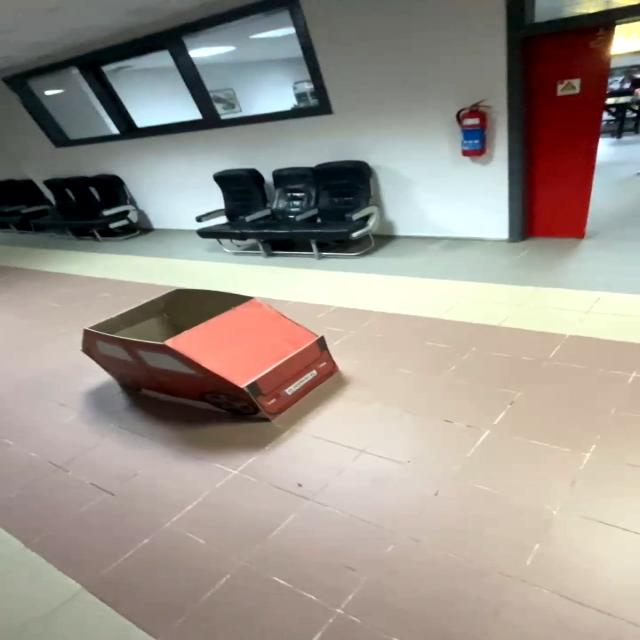red_car: (55, 275, 382, 460)
